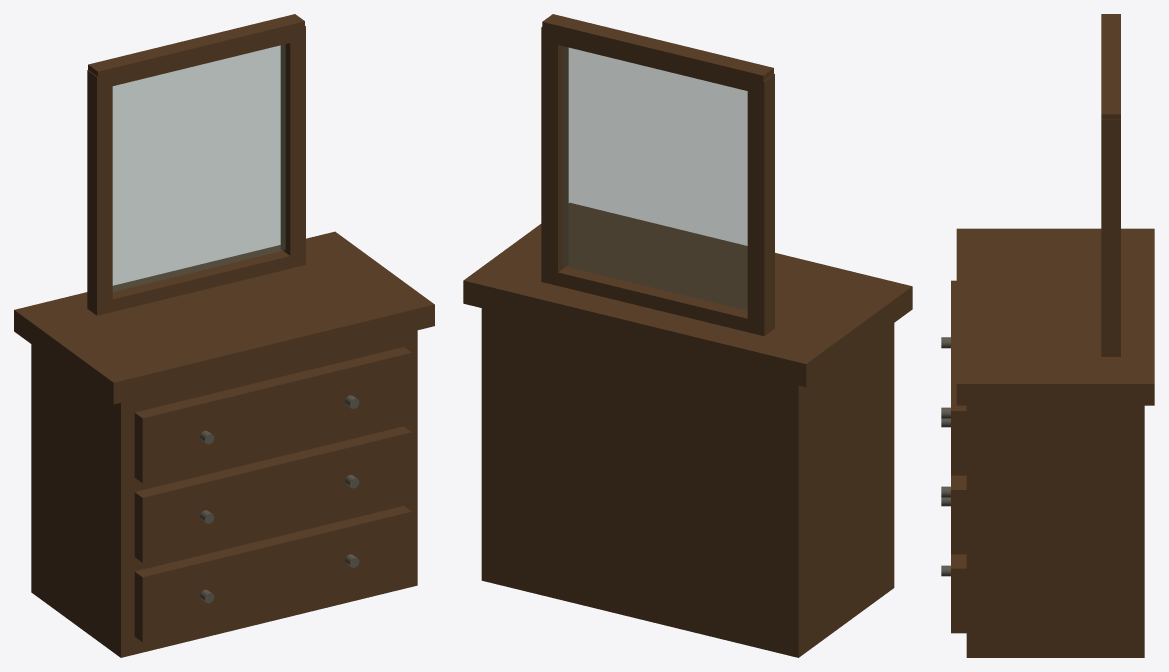
File: dresser_mirror_80s.glb
The picture shows the model from 3 angles, left to right: view 1: azimuth 30°, elevation 25°; view 2: azimuth 150°, elevation 25°; view 3: azimuth 270°, elevation 25°; orthographic projection. The views are drawn at different scales.
Parts seen in each view (by area): view 1: wood__carcass, glass__mirror_glass, wood__top, wood__drawer_front, _MeshInstance3D_19, _MeshInstance3D_22, wood__mirror_frame_left, wood__mirror_frame_top, wood__mirror_frame_right, wood__mirror_frame_bottom; view 2: wood__carcass, glass__mirror_glass, wood__top, wood__mirror_frame_left, wood__mirror_frame_right, wood__mirror_frame_top, wood__mirror_frame_bottom; view 3: wood__carcass, wood__top, wood__mirror_frame_right, wood__mirror_frame_top, _MeshInstance3D_22, wood__drawer_front, _MeshInstance3D_19.
Boxes of the visible parts, x1,y1,x2,y2 form: wood__carcass: [31, 330, 417, 657]; glass__mirror_glass: [112, 44, 285, 291]; wood__top: [14, 231, 434, 404]; wood__drawer_front: [134, 506, 411, 642]; _MeshInstance3D_19: [134, 426, 411, 562]; _MeshInstance3D_22: [134, 347, 411, 483]; wood__mirror_frame_left: [87, 70, 112, 315]; wood__mirror_frame_top: [88, 14, 304, 89]; wood__mirror_frame_right: [280, 26, 305, 268]; wood__mirror_frame_bottom: [99, 249, 304, 314]; wood__carcass: [481, 308, 894, 657]; glass__mirror_glass: [563, 46, 747, 310]; wood__top: [463, 203, 912, 386]; wood__mirror_frame_left: [747, 74, 774, 336]; wood__mirror_frame_right: [541, 27, 568, 283]; wood__mirror_frame_top: [542, 14, 773, 94]; wood__mirror_frame_bottom: [549, 265, 760, 334]; wood__carcass: [966, 405, 1144, 657]; wood__top: [956, 228, 1154, 405]; wood__mirror_frame_right: [1101, 119, 1120, 356]; wood__mirror_frame_top: [1101, 14, 1120, 119]; _MeshInstance3D_22: [951, 280, 966, 475]; wood__drawer_front: [951, 554, 966, 633]; _MeshInstance3D_19: [951, 475, 966, 554].
Size of the model in its own units: 0.93 by 1.46 by 0.539.
